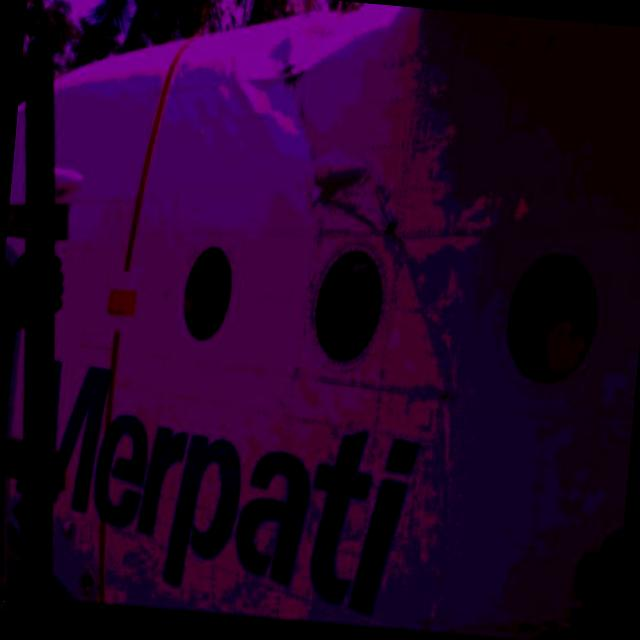crack: (276, 58, 314, 130), (382, 216, 408, 253)
